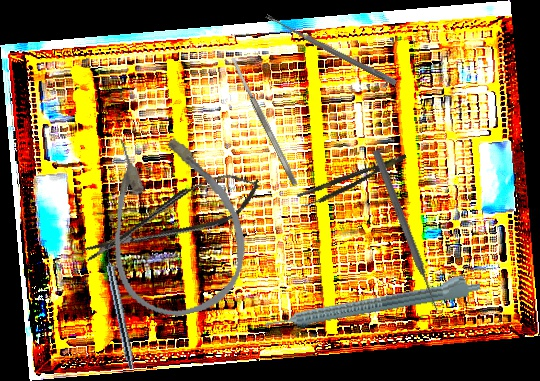Cannula: (87, 116, 259, 328)
Handpiece: (262, 269, 482, 333), (100, 243, 139, 370)
Micro Scissor: (73, 163, 269, 273)
Pusher: (370, 148, 443, 315)
Spatula Surgical: (228, 54, 300, 188)
Surgical Spoon: (264, 13, 398, 86)
Tissue Forceps: (296, 152, 411, 210)
